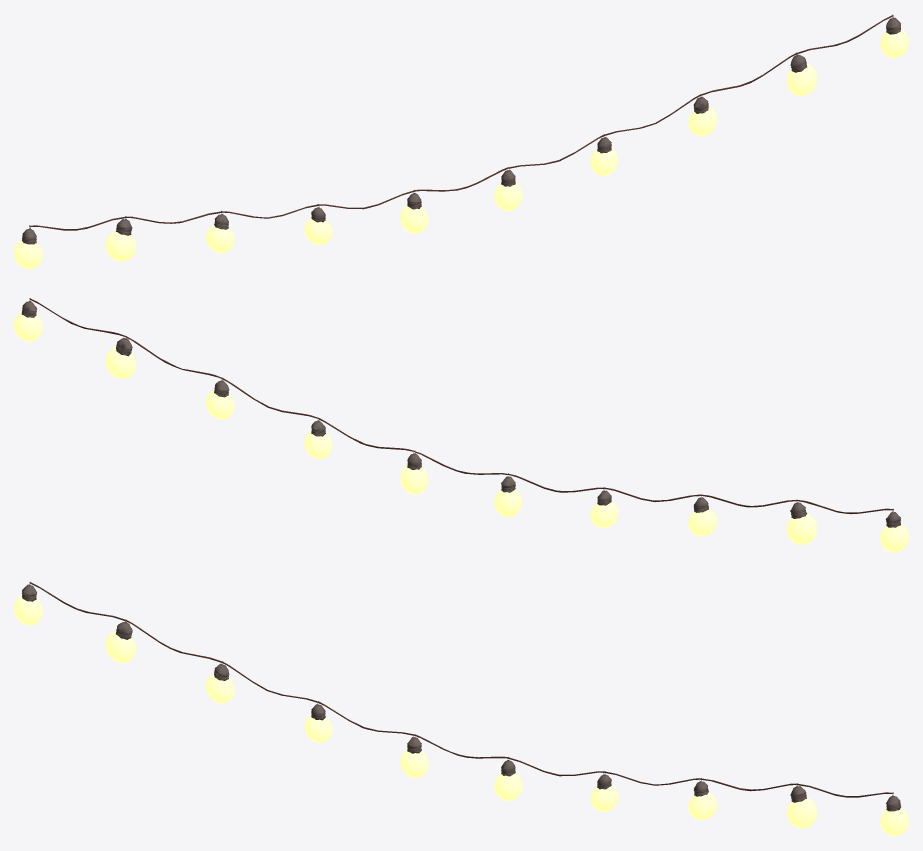
File: llumsLVL1.fbx
The picture shows the model from 3 angles, top to bottom: view 1: azimuth 30°, elevation 25°; view 2: azimuth 150°, elevation 25°; view 3: azimuth 330°, elevation 25°; orthographic projection.
Parts seen in each view (by area): view 1: BezierCurve; view 2: BezierCurve; view 3: BezierCurve.
Part boxes in pixels (left/top/right/bottom): BezierCurve: left=14, top=14, right=908, bottom=269; BezierCurve: left=14, top=298, right=908, bottom=552; BezierCurve: left=14, top=581, right=908, bottom=836.
Bounding box in the file's own units: 5469 × 596 × 150.
